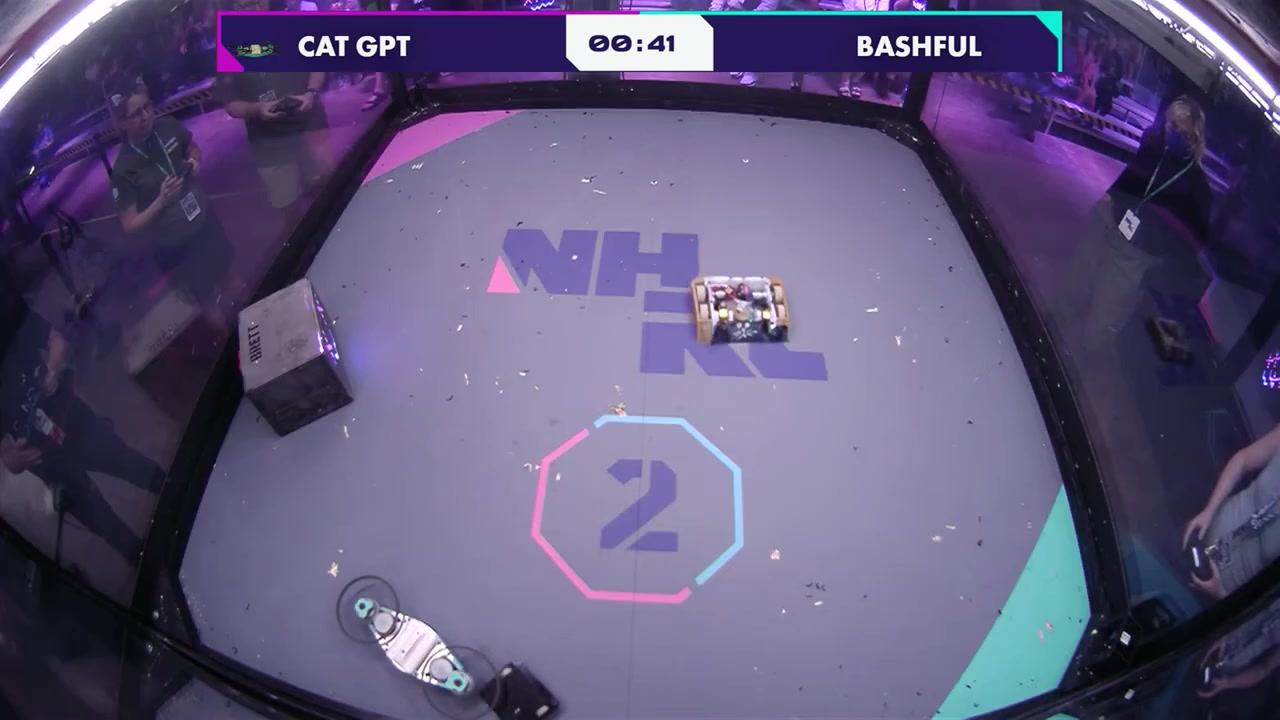combatbot: (336, 575, 500, 717), (688, 276, 791, 347)
housebot: (237, 278, 353, 440)
minibot: (482, 660, 559, 720)
